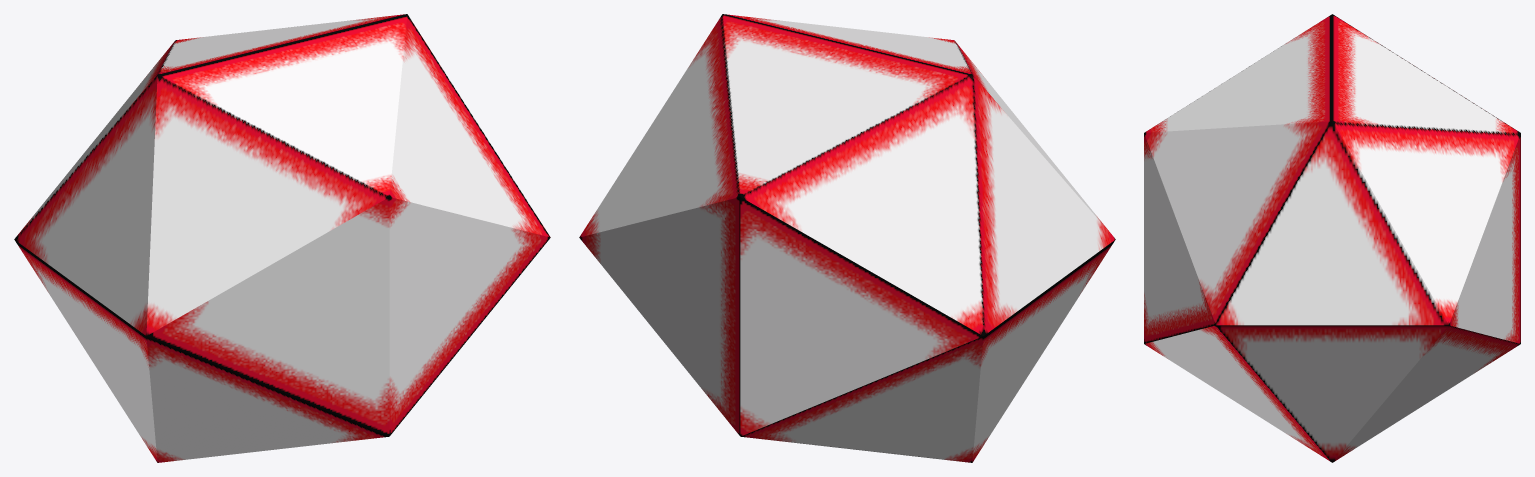
Rendered from goallevel15.fbx.
The picture shows the model from 3 angles, left to right: view 1: azimuth 30°, elevation 25°; view 2: azimuth 150°, elevation 25°; view 3: azimuth 270°, elevation 25°; orthographic projection. The views are drawn at different scales.
Visible parts, largest first — view 1: Platonic_1; view 2: Platonic_1; view 3: Platonic_1.
Part boxes in pixels (x1=…): Platonic_1: x1=14, y1=14, x2=550, y2=462; Platonic_1: x1=579, y1=14, x2=1115, y2=462; Platonic_1: x1=1144, y1=14, x2=1520, y2=462.
Size of the model in its own units: 135 by 124 by 124.
Materials: 1 (1 with a texture image).
